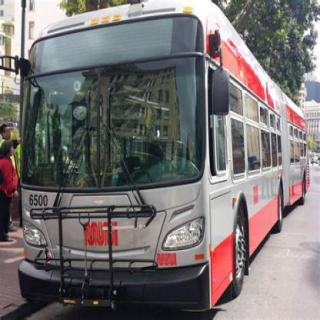Normal_vehicle: (10, 1, 316, 308)
